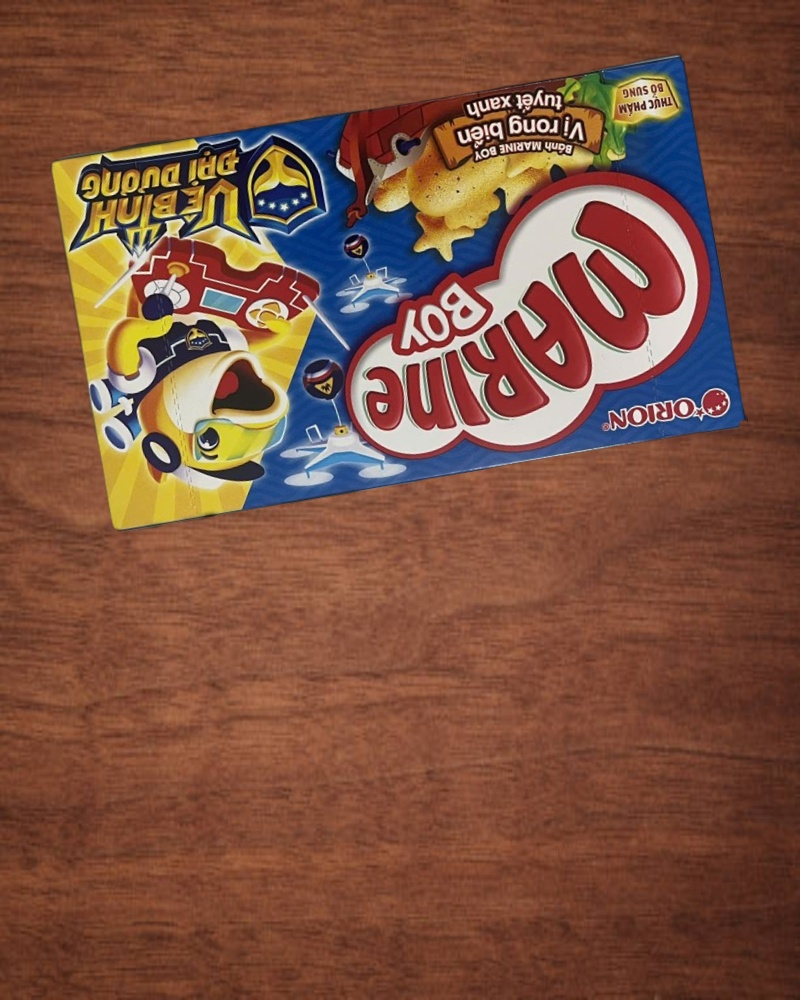Marine: (47, 49, 749, 538)
